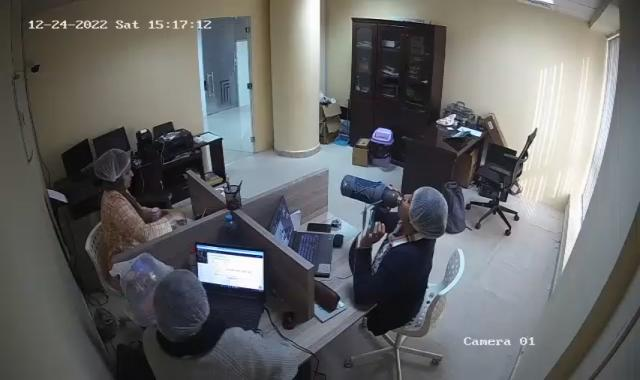hairnet: (155, 268, 207, 336), (412, 185, 448, 237), (96, 146, 135, 190)
